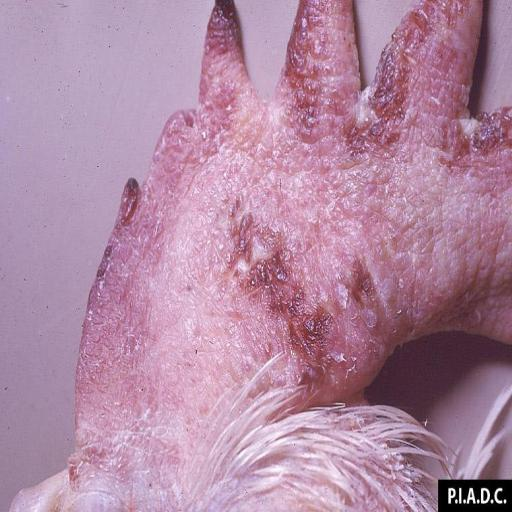disease: (212, 196, 376, 390), (436, 62, 510, 172), (331, 62, 406, 150)
